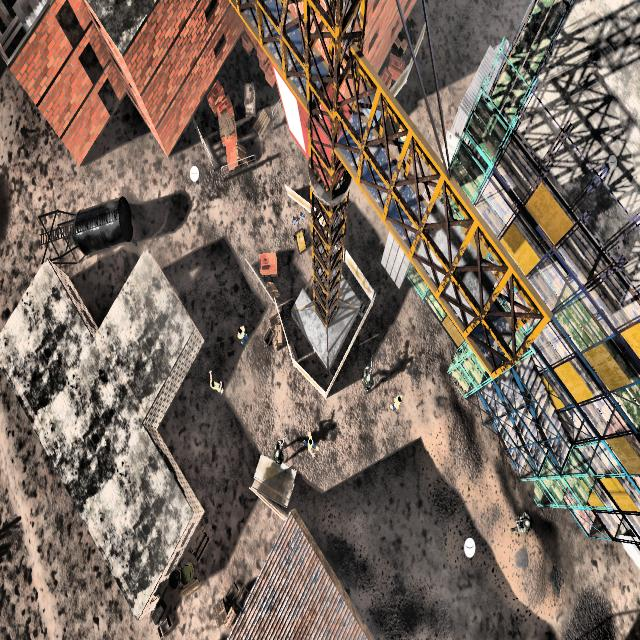bad: (356, 359, 378, 404), (512, 502, 534, 546), (268, 431, 290, 471)
good: (297, 422, 323, 466), (204, 366, 228, 411), (231, 311, 252, 357), (384, 389, 406, 423)
